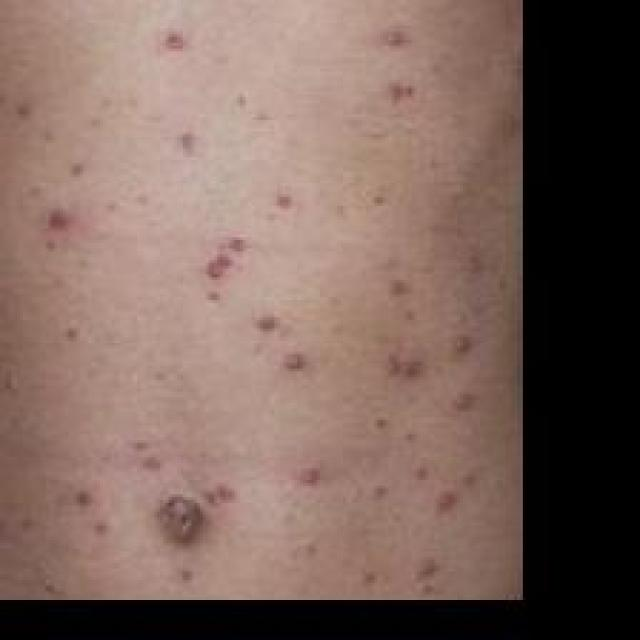others: (0, 0, 530, 640)
